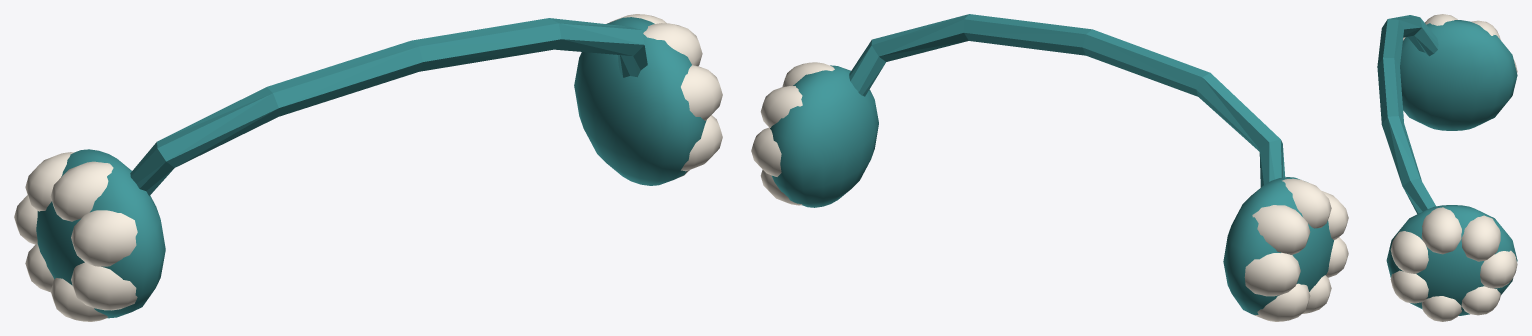
File: earmuffs.fbx
3 renders of one model, left to right at view 1: azimuth 30°, elevation 25°; view 2: azimuth 150°, elevation 25°; view 3: azimuth 270°, elevation 25°, orthographic. The views are drawn at different scales.
Parts seen in each view (by area): view 1: earmuffs_armor; view 2: earmuffs_armor; view 3: earmuffs_armor.
Boxes of the visible parts, x1,y1,x2,y2 form: earmuffs_armor: [14, 14, 722, 321]; earmuffs_armor: [751, 14, 1348, 321]; earmuffs_armor: [1377, 14, 1517, 321].
Bounding box in the file's own units: 4.86 × 1.68 × 1.3.
Materials: 1 (1 with a texture image).
